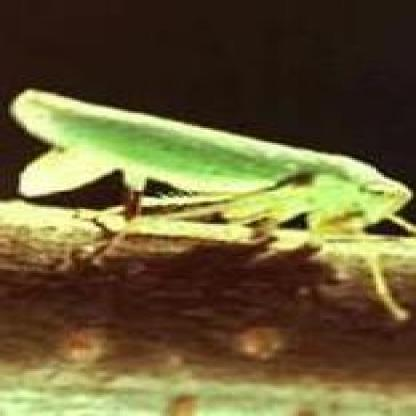Green-Leafhopper: (0, 85, 416, 321)
